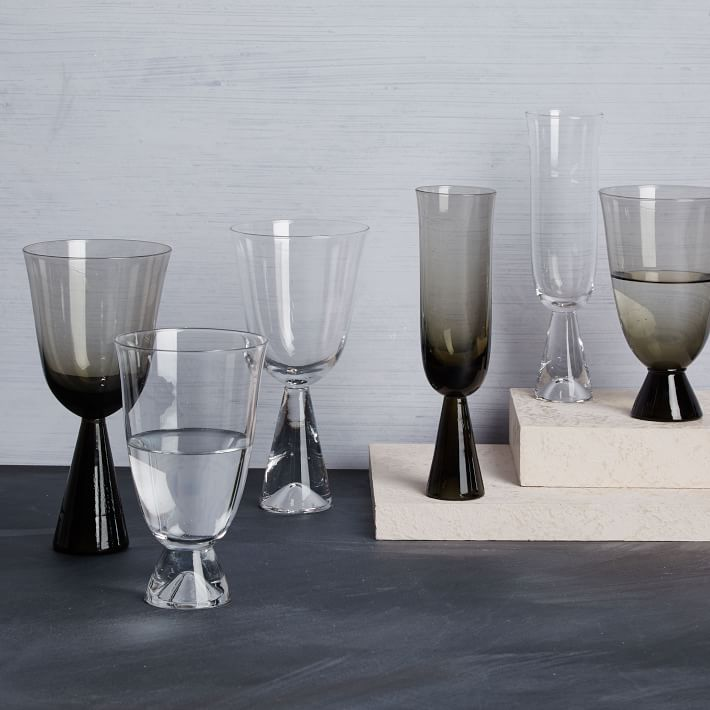Nonrec_Glass: (21, 232, 172, 560), (108, 326, 267, 625), (218, 210, 368, 522), (398, 157, 500, 508), (584, 164, 710, 419), (510, 86, 602, 413)
